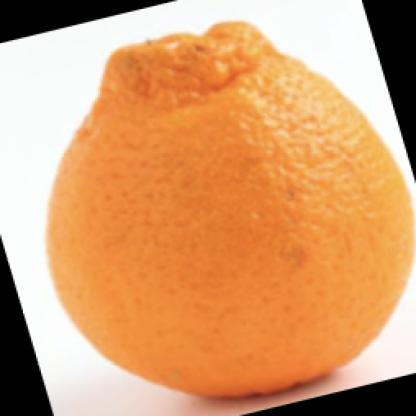fresh: (48, 23, 411, 398)
